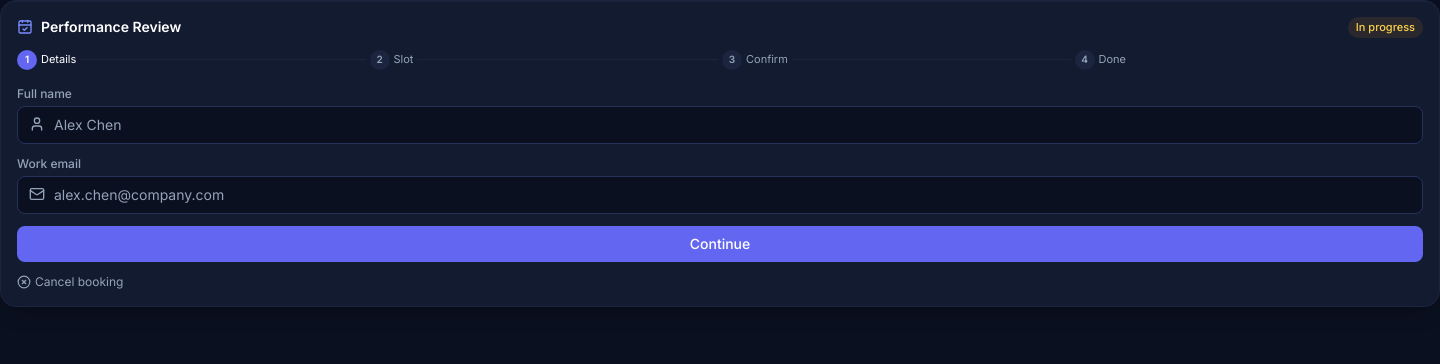
Test: BookingPanel › validates name/email client-side and does not send invalid details
Type "Alex" into the field labelled "Full name".
click(720, 124); type("Alex")  # box [17,106,1423,144]
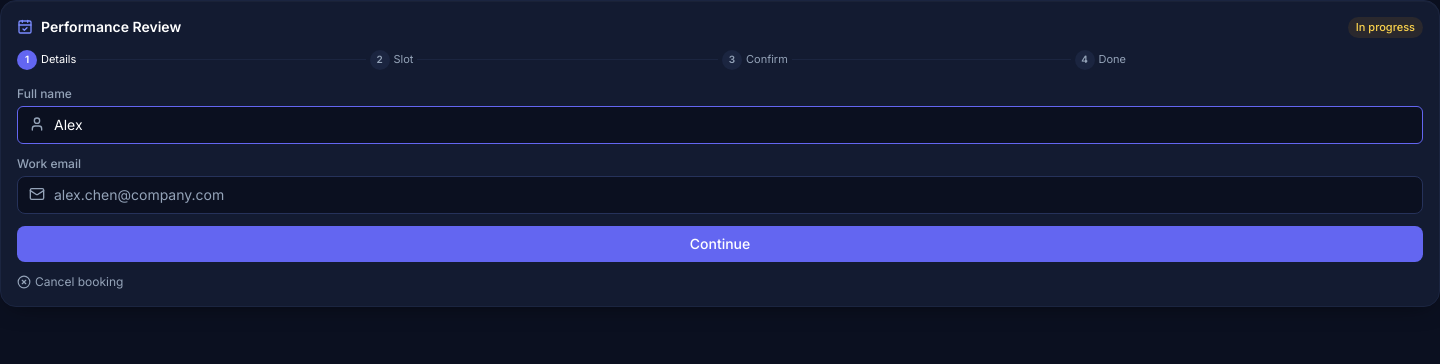
Type "not-an-email" into the field labelled "Work email".
click(720, 194); type("not-an-email")  # box [17,176,1423,214]
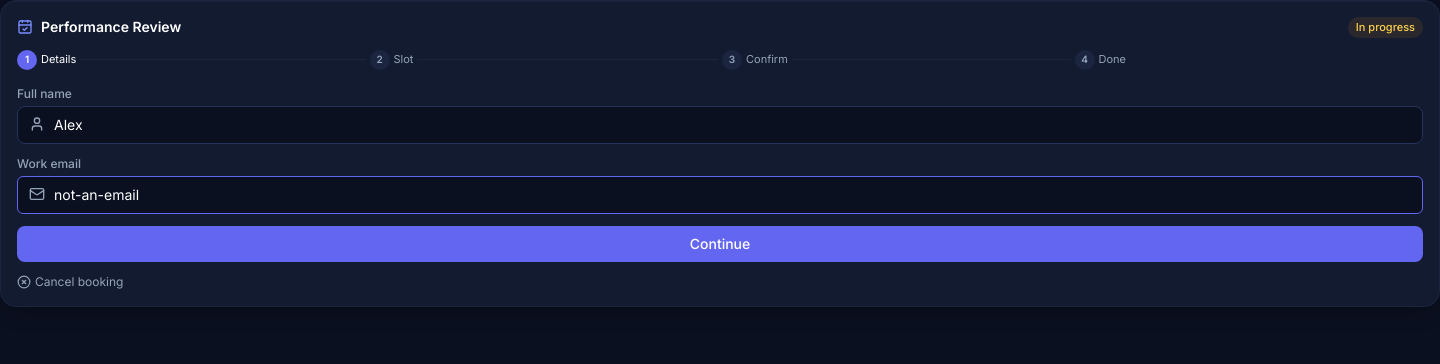
Click the button "Continue".
click(720, 244)  # box [17,226,1423,262]
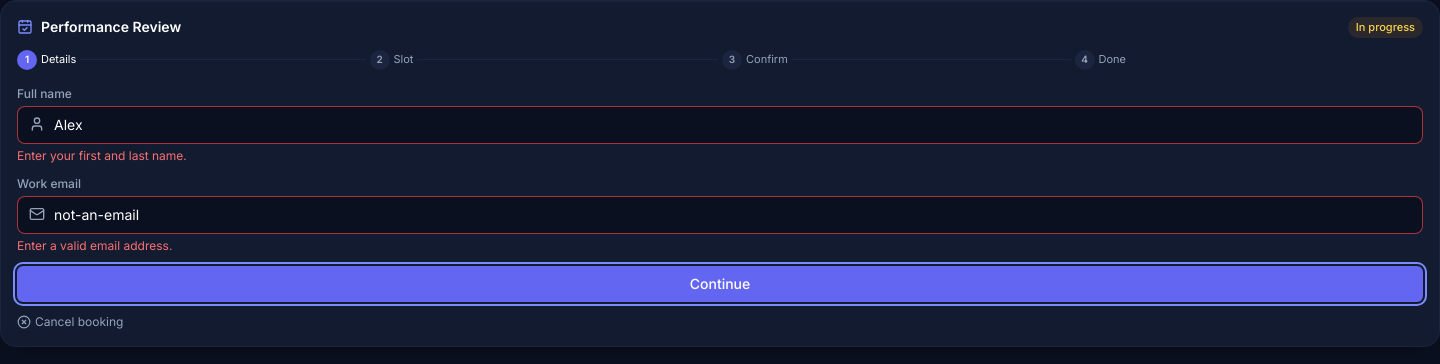
Expected: the text "Enter your first and last name." is shown, [17,148,187,162]
Expected: the text "Enter a valid email address." is shown, [17,238,172,252]
